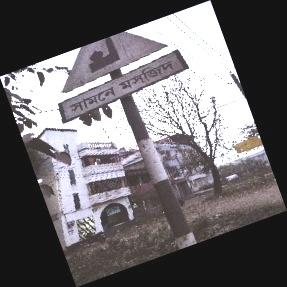Mosque in front: (58, 31, 181, 126)
